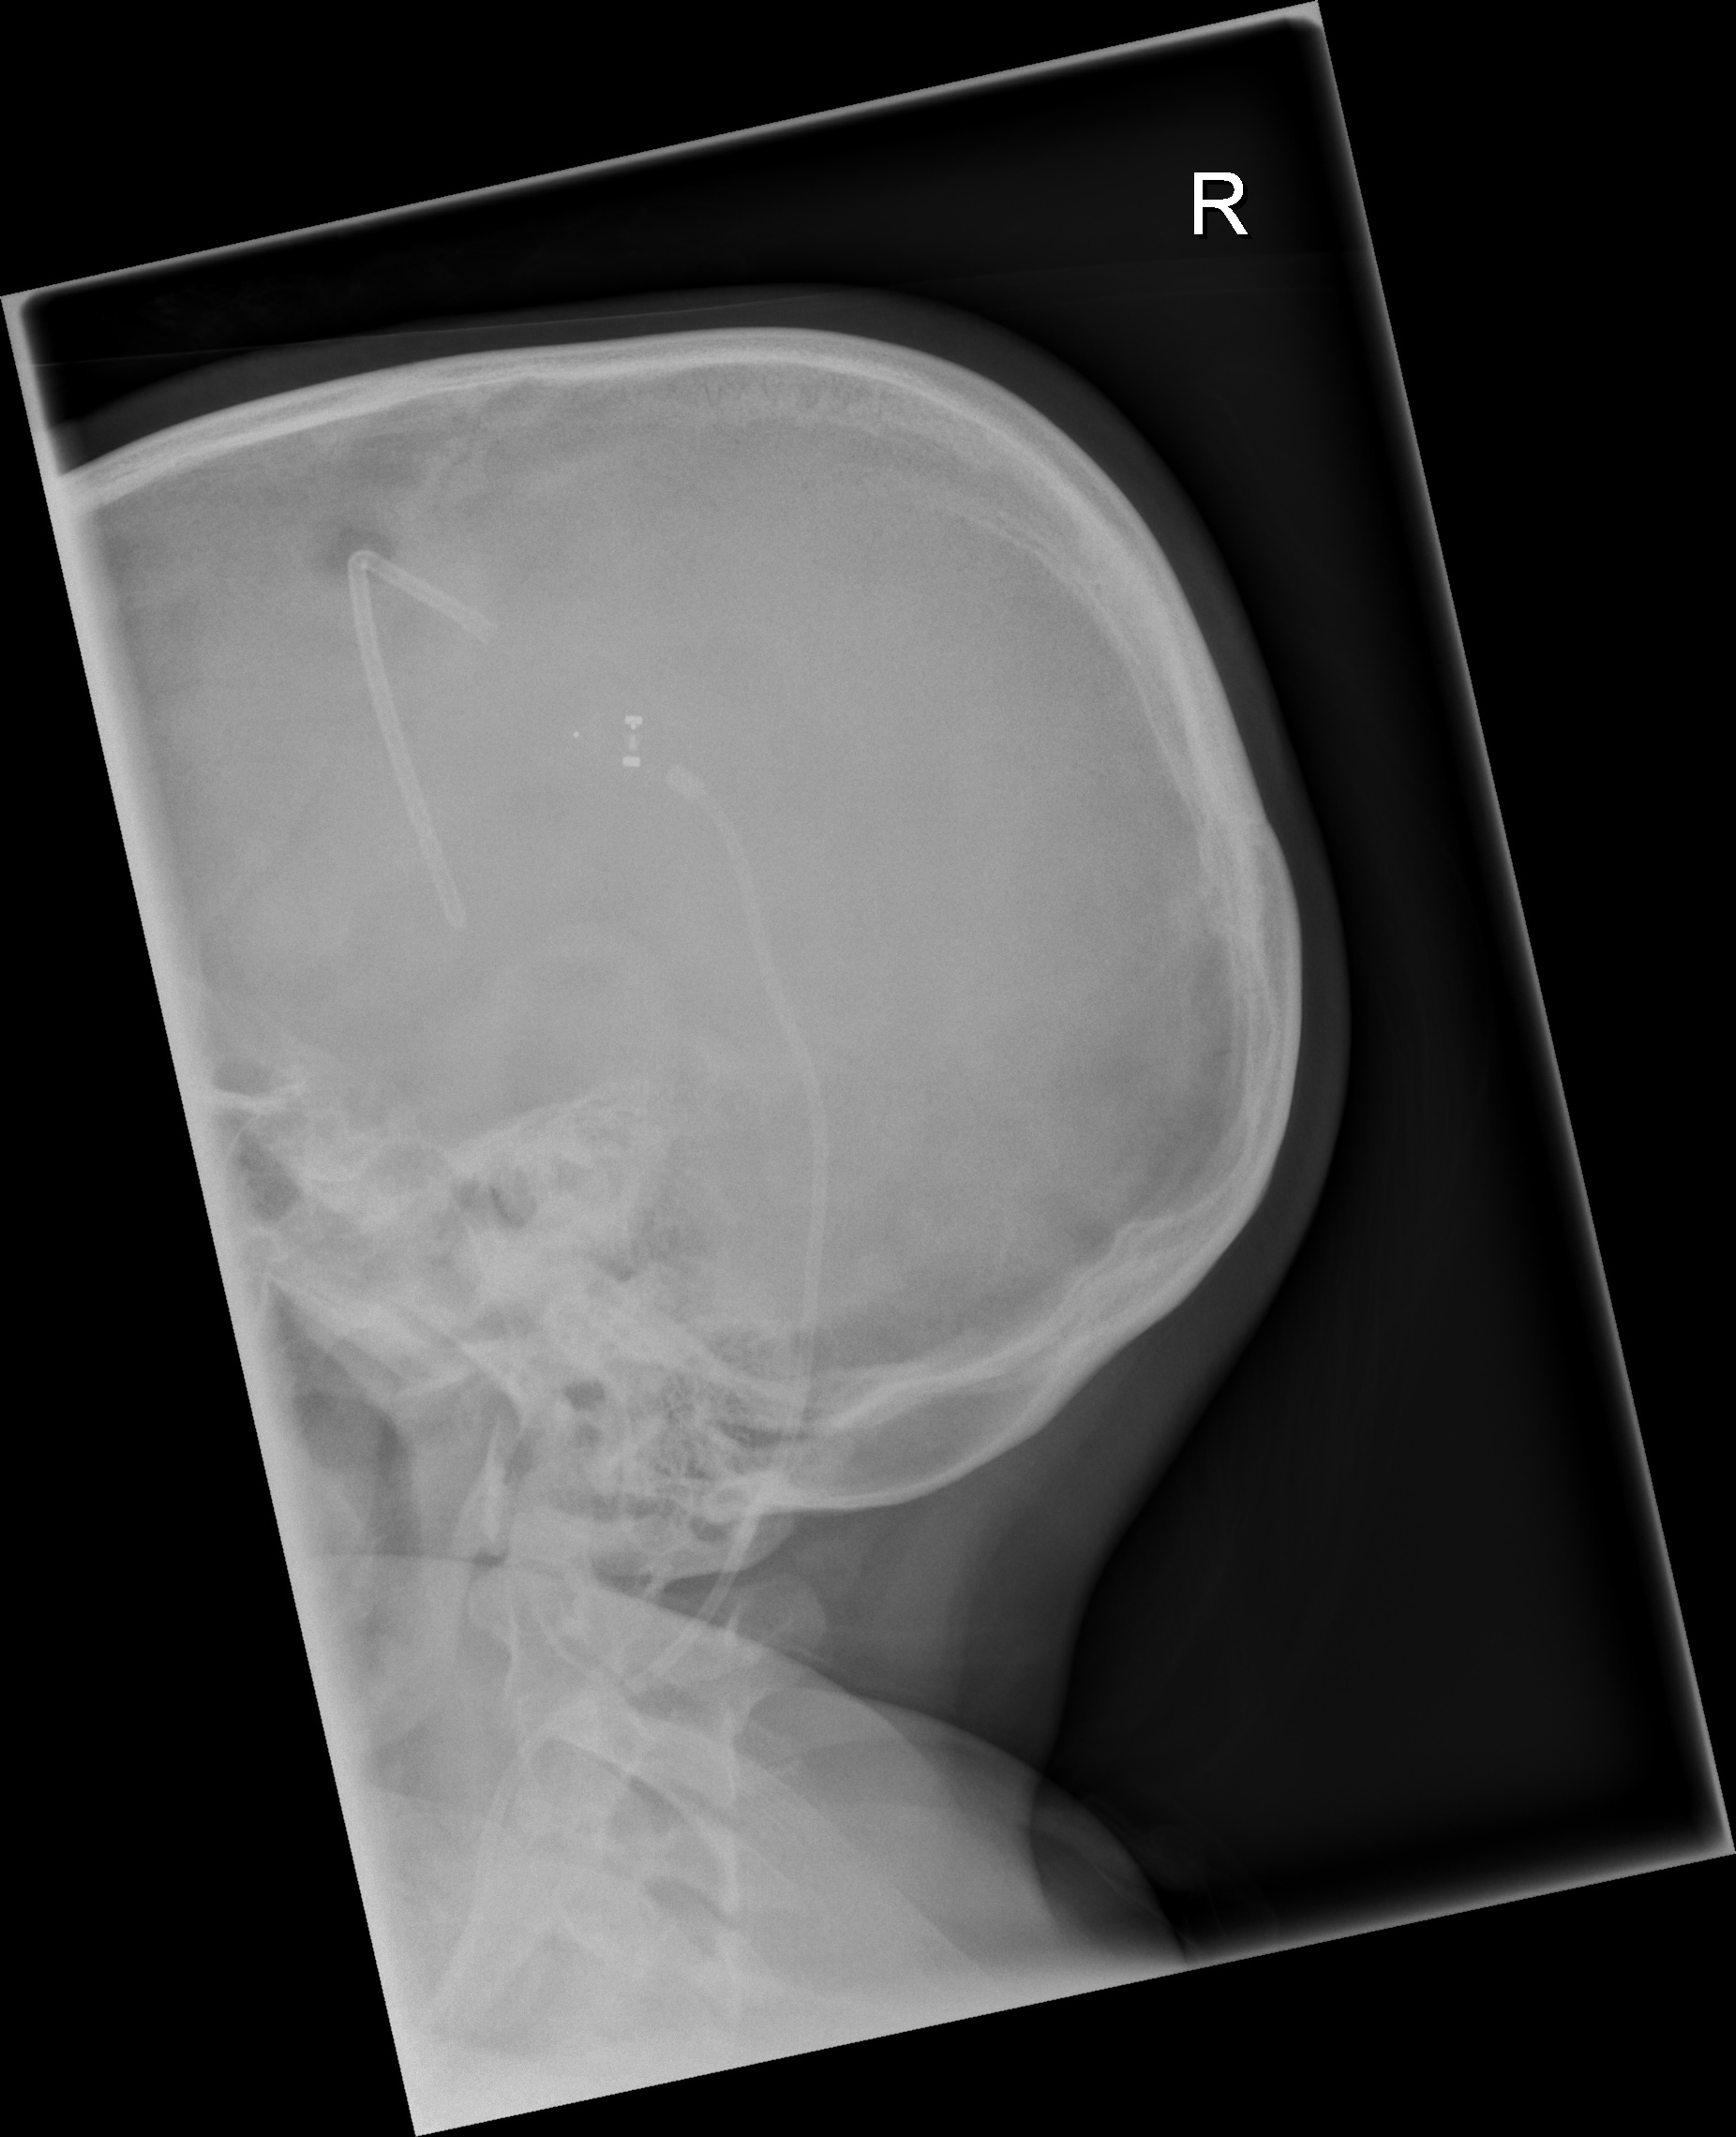Codman Certas: (554, 680, 682, 795)
